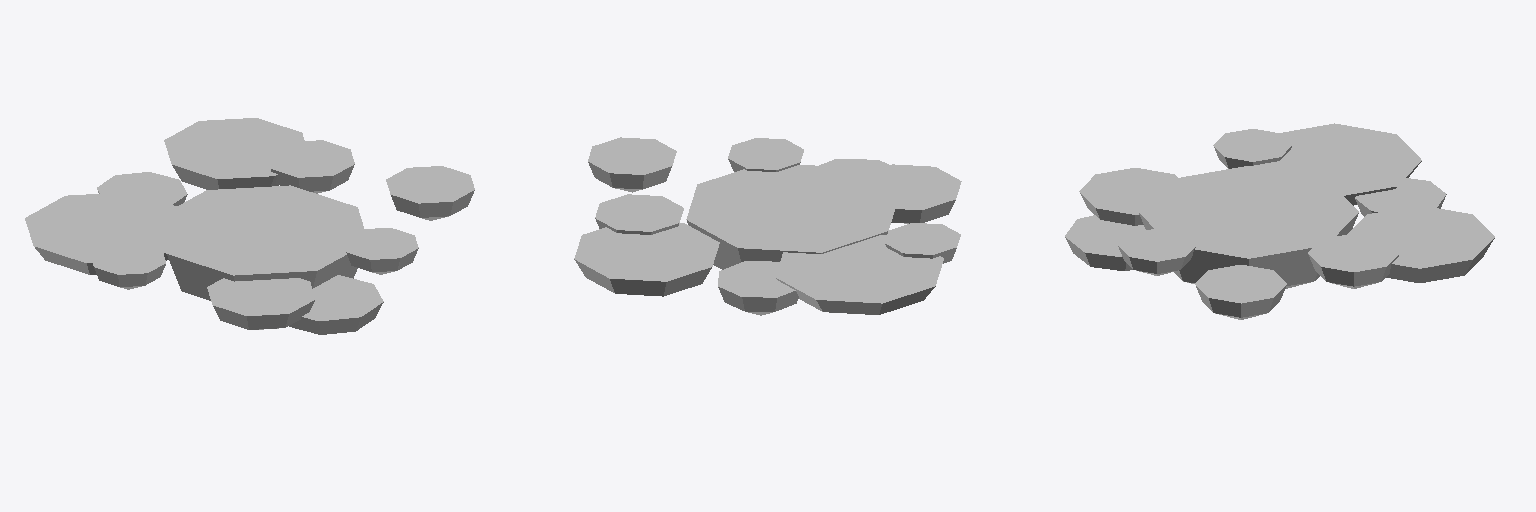
File: LillyPad_04.obj
3 views of the same model, side by side, from view 1: azimuth 30°, elevation 25°; view 2: azimuth 150°, elevation 25°; view 3: azimuth 270°, elevation 25° (orthographic).
Visible parts, largest first — view 1: Pad04; view 2: Pad04; view 3: Pad04.
Boxes of the visible parts, box(x1,y1,x2,y2) form: Pad04: box(25, 118, 474, 334); Pad04: box(574, 137, 961, 315); Pad04: box(1065, 123, 1494, 319).
Size of the model in its own units: 3.6 by 0.839 by 3.44.